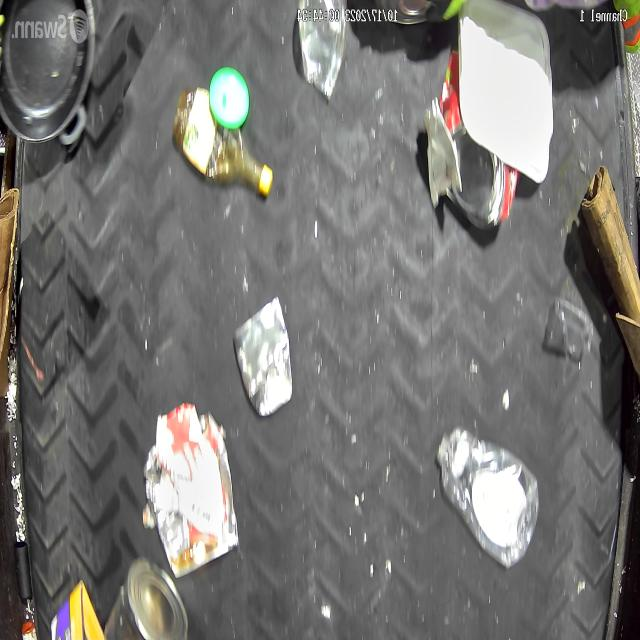can: (233, 296, 293, 416)
plastic_bottle: (437, 426, 540, 567)
